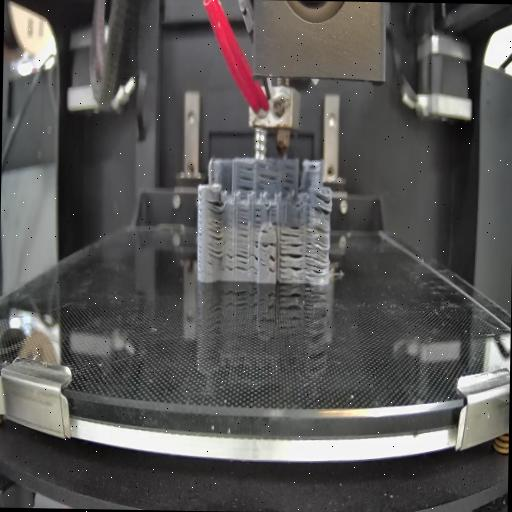cracks: (304, 225, 330, 277), (206, 199, 226, 258), (278, 242, 304, 278), (310, 192, 332, 216), (236, 164, 254, 192), (236, 208, 250, 242), (256, 174, 278, 192), (234, 246, 248, 274), (280, 222, 301, 240), (250, 238, 258, 275), (282, 169, 294, 192), (226, 246, 234, 274), (260, 239, 275, 250), (253, 206, 261, 226), (270, 205, 278, 224), (268, 256, 276, 275), (260, 227, 270, 235)
